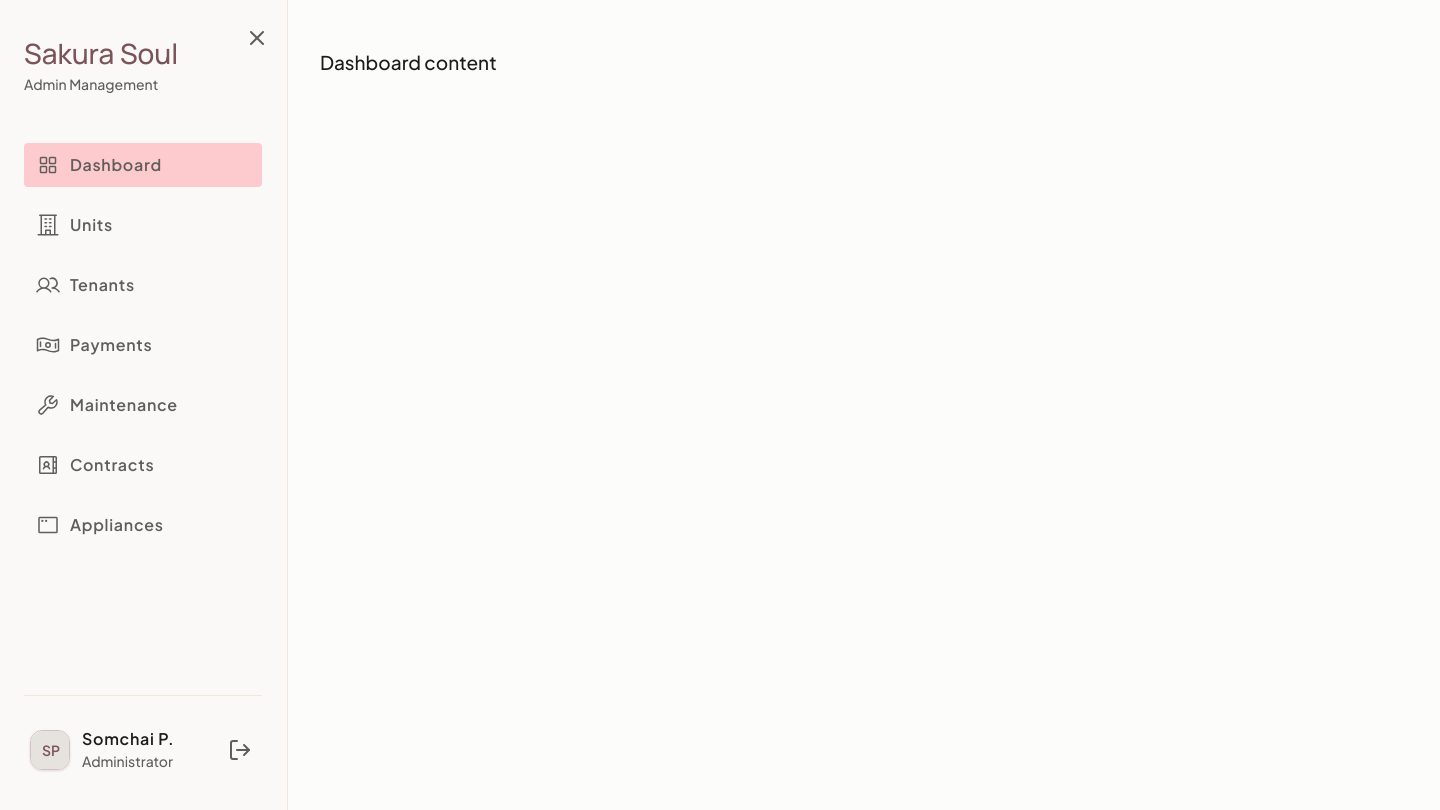
Scenario: AppLayout › opens and cancels logout from the sidebar without leaving the current page
Click the button named "Log out" at coordinates (240, 750), box [218,728,262,772]
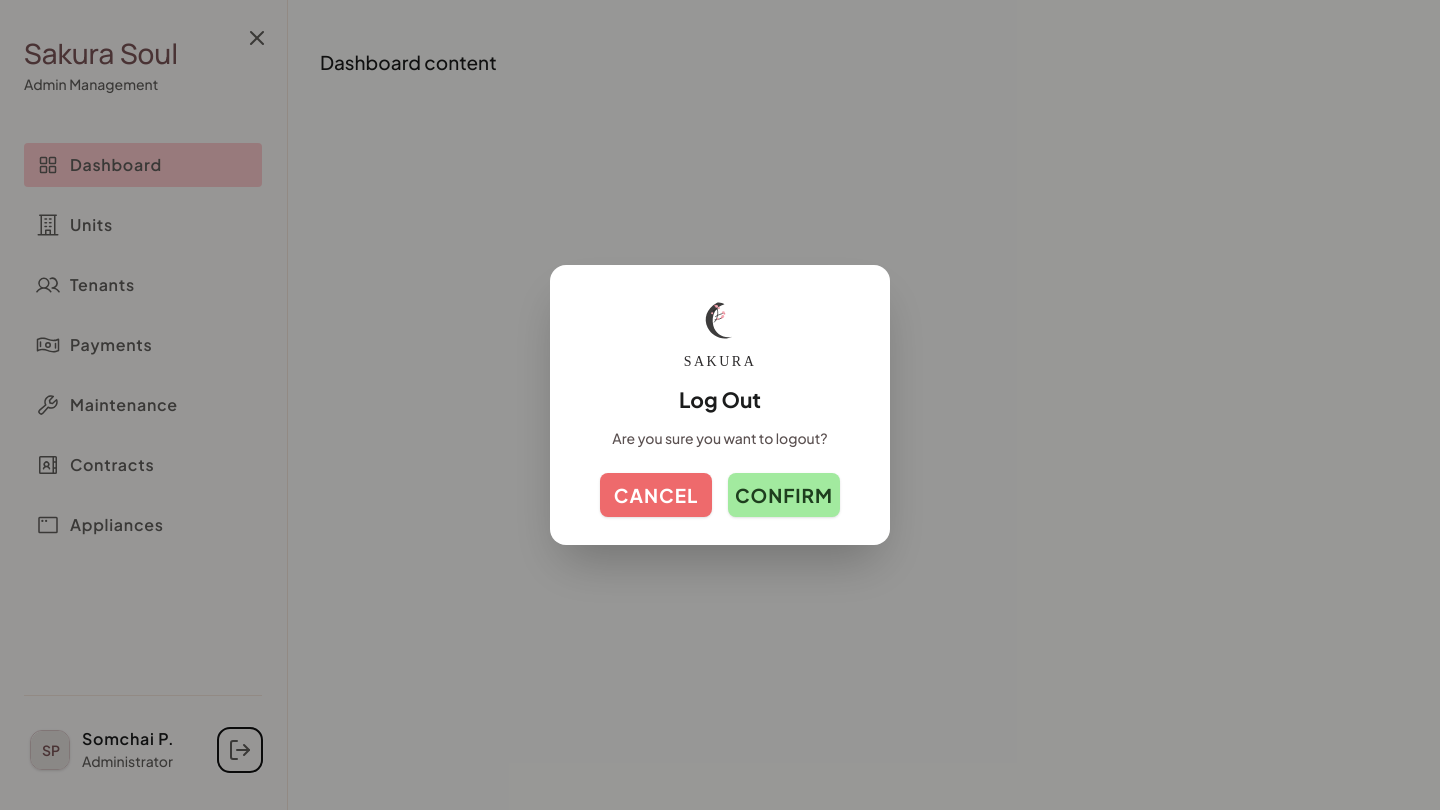
Check: the heading "Log Out" is shown, box [679,384,761,416]
Click the button "CANCEL" at coordinates (656, 495), box [600,472,712,517]
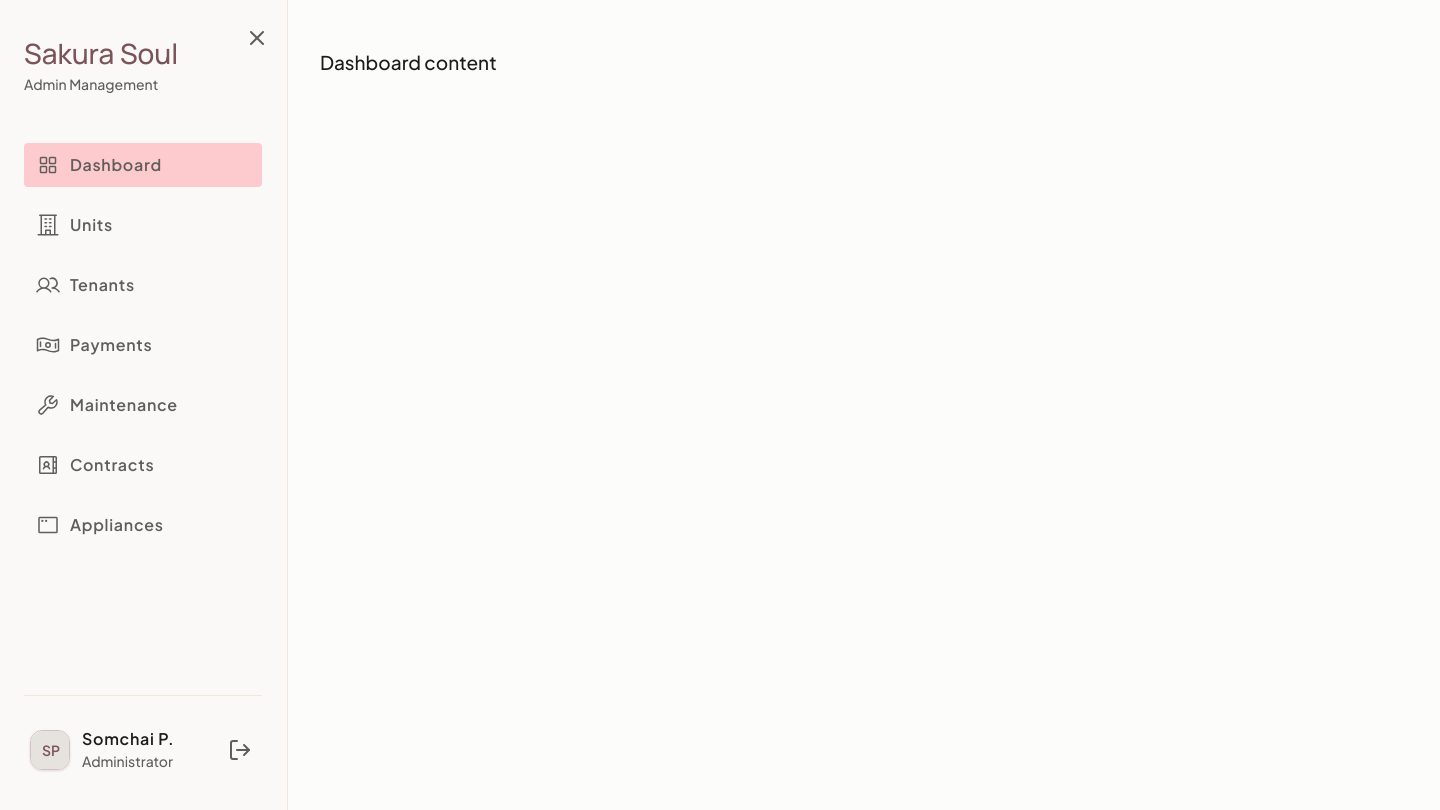
Check: the heading "Dashboard content" is shown, box [320,50,497,74]
Check: the heading "Log Out" is gone
